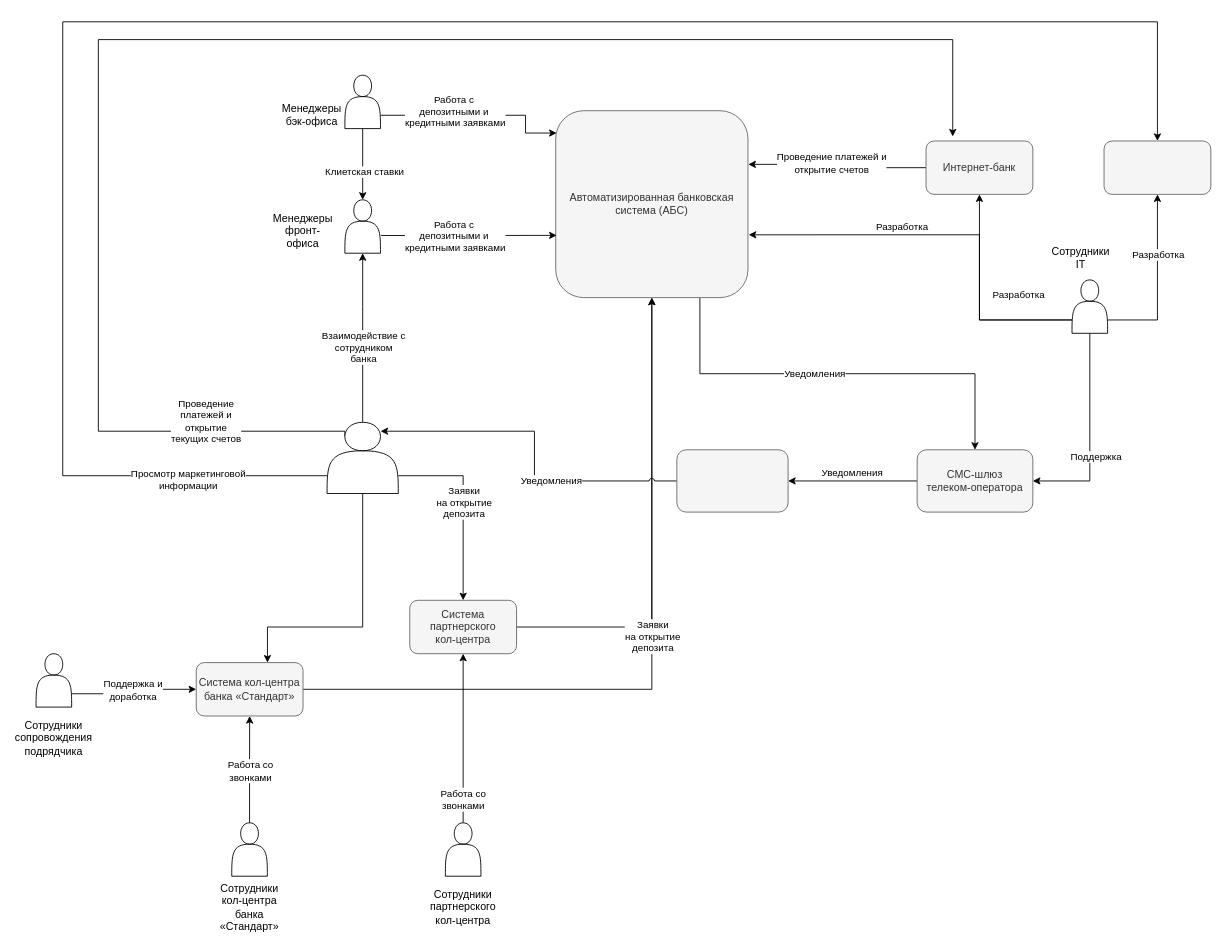
This 1226x949 diagram has some shape labels left out. Each missing label, with the box of its shape:
Сайт: (1103, 140, 1211, 194)
Телеком-оператор: (676, 449, 788, 512)
